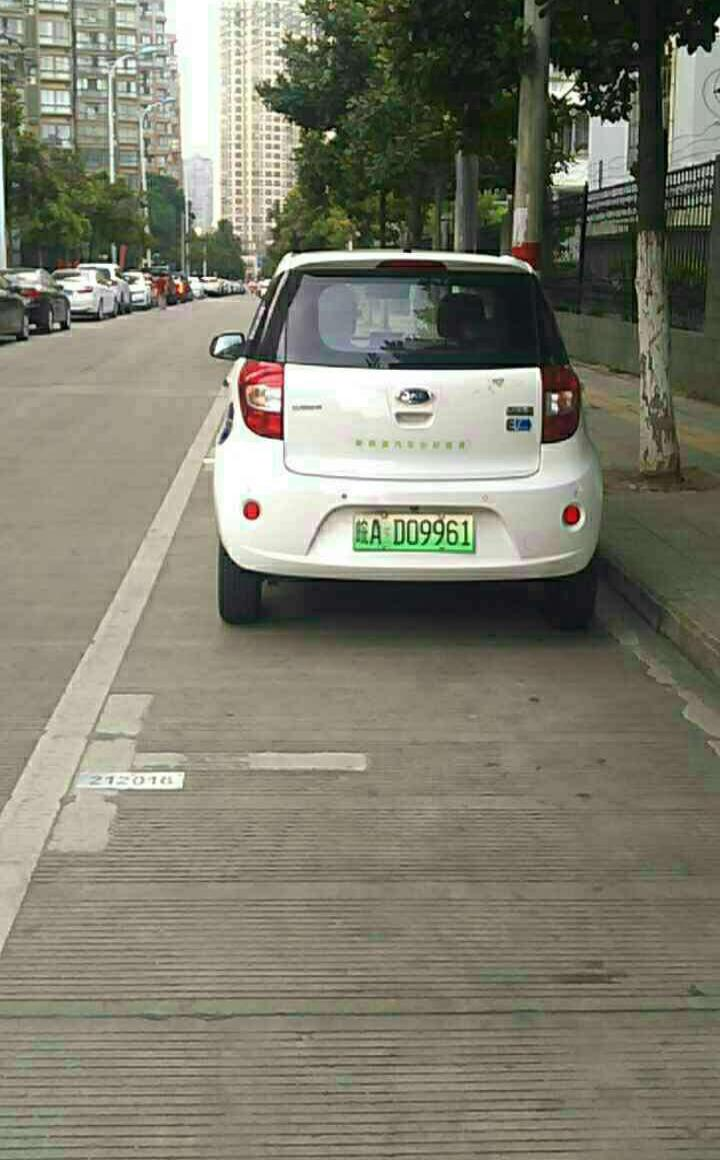car_id: (350, 512, 476, 551)
